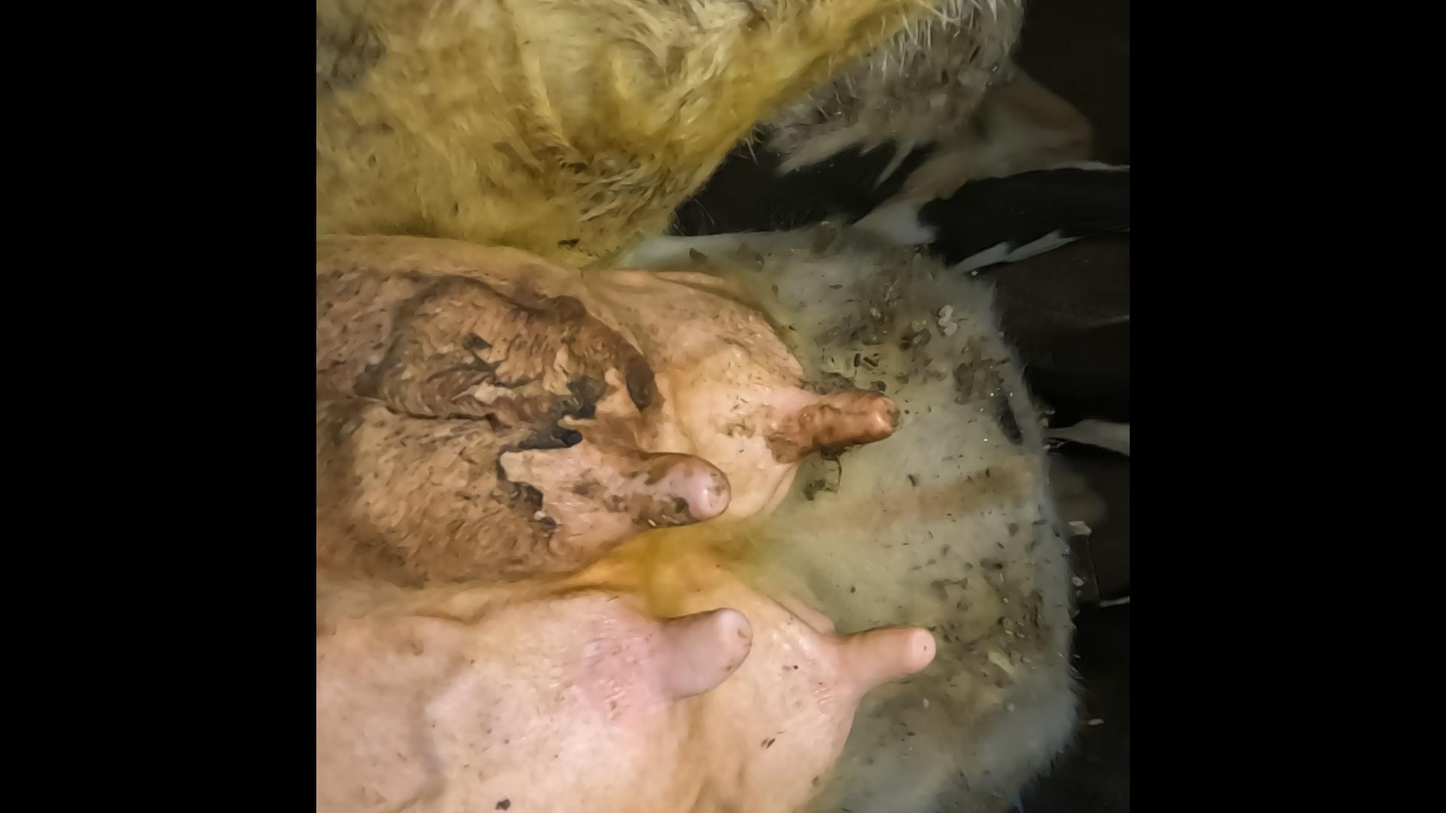Zitze: (605, 423, 737, 540), (812, 608, 956, 713), (641, 600, 766, 705), (782, 362, 898, 454)
